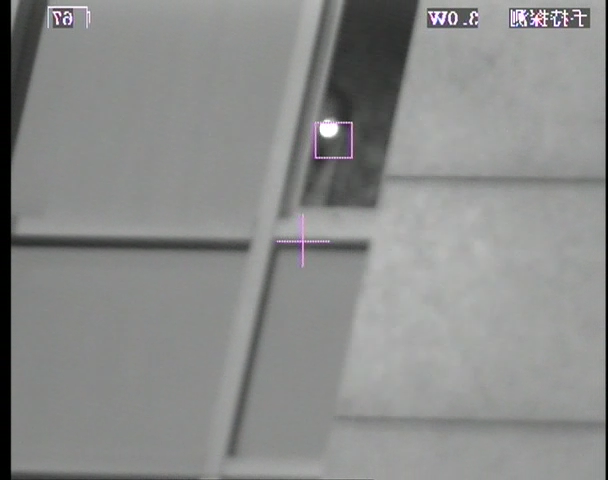my: (318, 117, 339, 139)
